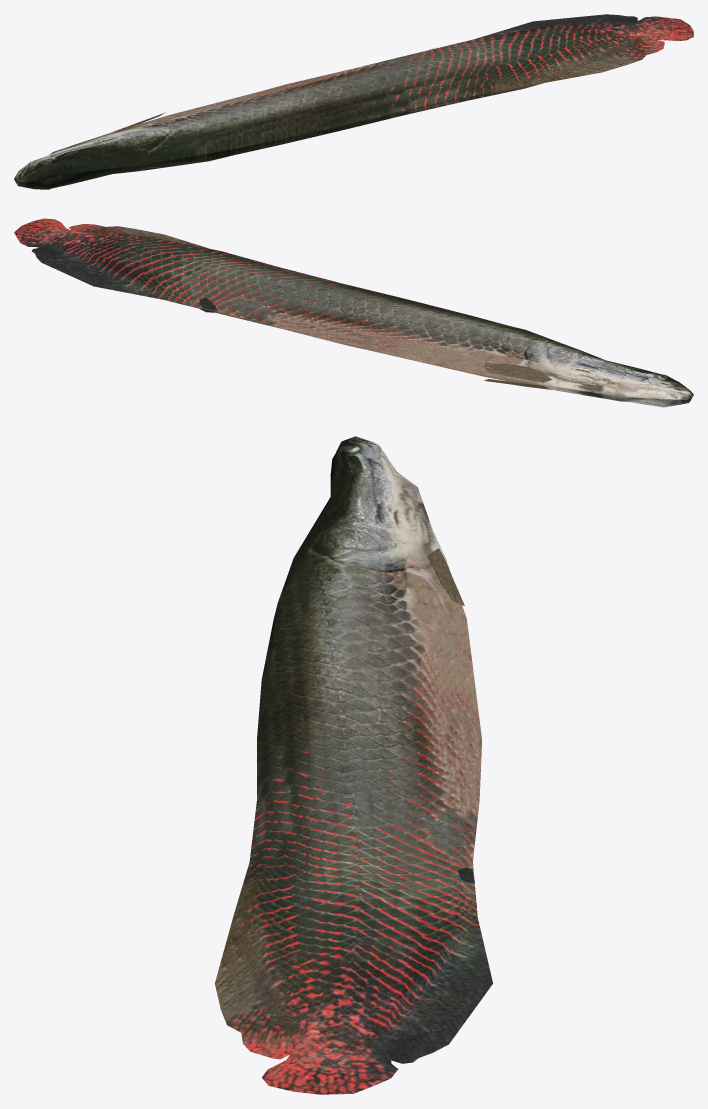
File: pirarucu.fbx
3 views of the same model, one above another, from view 1: azimuth 30°, elevation 25°; view 2: azimuth 150°, elevation 25°; view 3: azimuth 270°, elevation 25° (orthographic). The views are drawn at different scales.
Visible parts, largest first — view 1: Pirarocu_obj_cleaner_gles; view 2: Pirarocu_obj_cleaner_gles; view 3: Pirarocu_obj_cleaner_gles.
Part boxes in pixels (x1=…): Pirarocu_obj_cleaner_gles: x1=14, y1=14, x2=693, y2=189; Pirarocu_obj_cleaner_gles: x1=14, y1=218, x2=693, y2=407; Pirarocu_obj_cleaner_gles: x1=215, y1=436, x2=492, y2=1094.
Bounding box in the file's own units: 131 × 6.03 × 23.64.
1 material, 1 textured.
